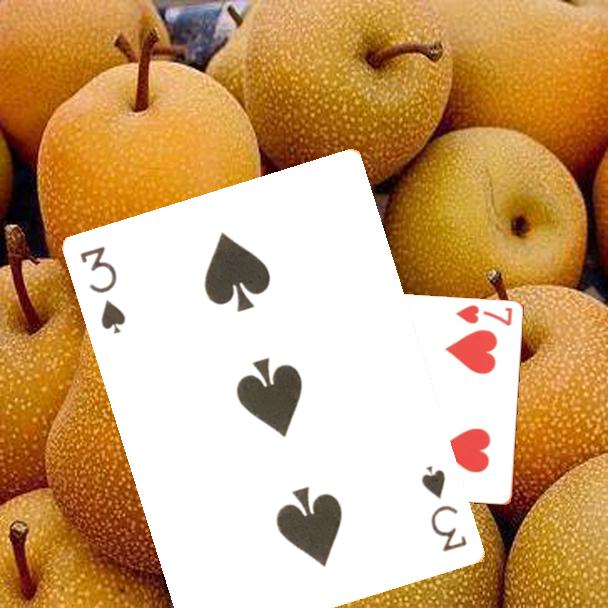h07: (452, 302, 515, 329)
s03: (418, 462, 471, 556), (77, 243, 129, 337)
